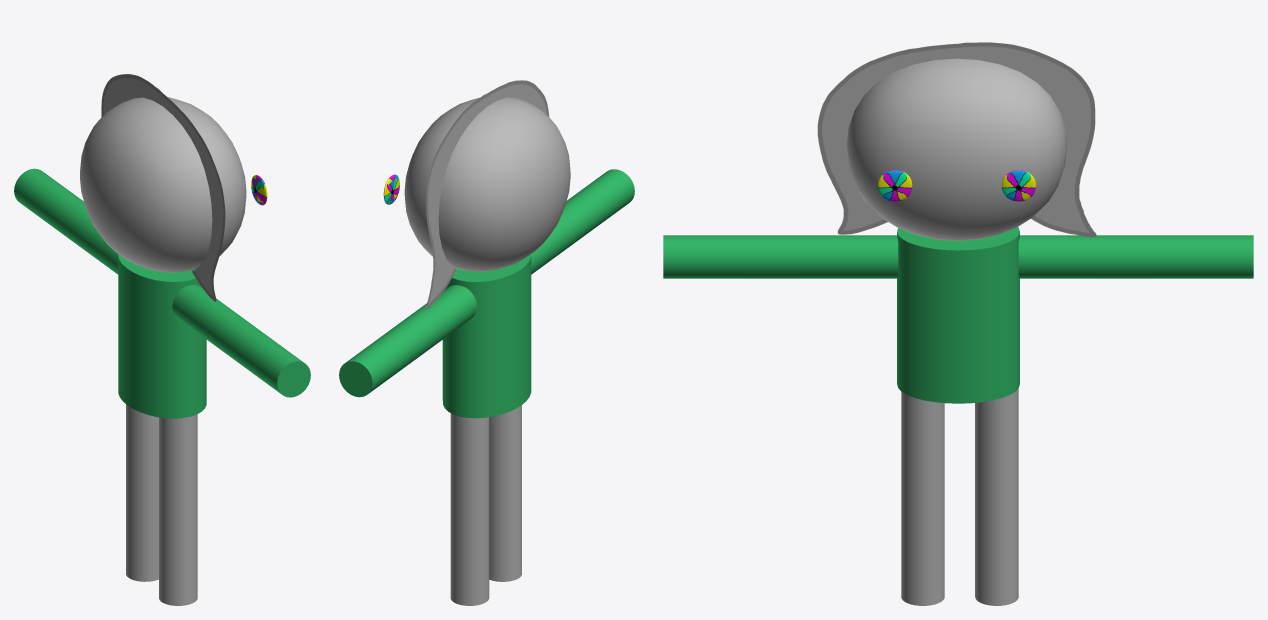
Rendered from дурачок сайта.glb.
3 renders of one model, left to right at view 1: azimuth 30°, elevation 25°; view 2: azimuth 150°, elevation 25°; view 3: azimuth 270°, elevation 25°, orthographic. The views are drawn at different scales.
Parts seen in each view (by area): view 1: Cube, Cylinder, Cylinder.004, Cylinder.002, Cylinder.003, Plane, Cylinder.001; view 2: Cube, Cylinder, Cylinder.003, Cylinder.001, Cylinder.004, Plane, Cylinder.002; view 3: Cube, Cylinder, Plane, Cylinder.002, Cylinder.001, Cylinder.003, Cylinder.004, Cube.001, Cube.002.
Boxes of the visible parts, x1,y1,x2,y2 form: Cube: (80,97,246,272); Cylinder: (118,254,206,418); Cylinder.004: (159,414,197,605); Cylinder.002: (172,285,310,397); Cylinder.003: (126,404,158,581); Plane: (101,74,225,301); Cylinder.001: (14,168,118,274); Cube: (404,97,570,271); Cylinder: (442,254,531,418); Cylinder.003: (450,413,489,605); Cylinder.001: (339,285,476,397); Cylinder.004: (489,405,521,581); Plane: (425,80,549,309); Cylinder.002: (531,169,634,274); Cube: (846,58,1067,240); Cylinder: (897,227,1019,403); Plane: (817,42,1096,237); Cylinder.002: (663,235,898,278); Cylinder.001: (1018,235,1253,278); Cylinder.003: (975,388,1018,605); Cylinder.004: (901,392,944,605); Cube.001: (878,170,912,201); Cube.002: (1001,170,1035,201).
Size of the model in its own units: 1.19 by 4.35 by 3.99.
4 materials, 2 textured.
